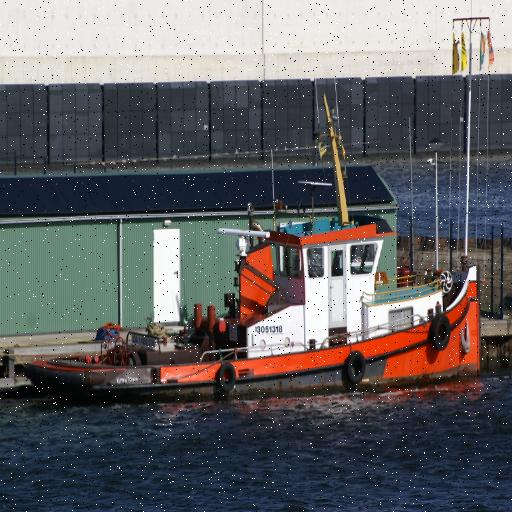tugboat: (21, 206, 486, 417)
